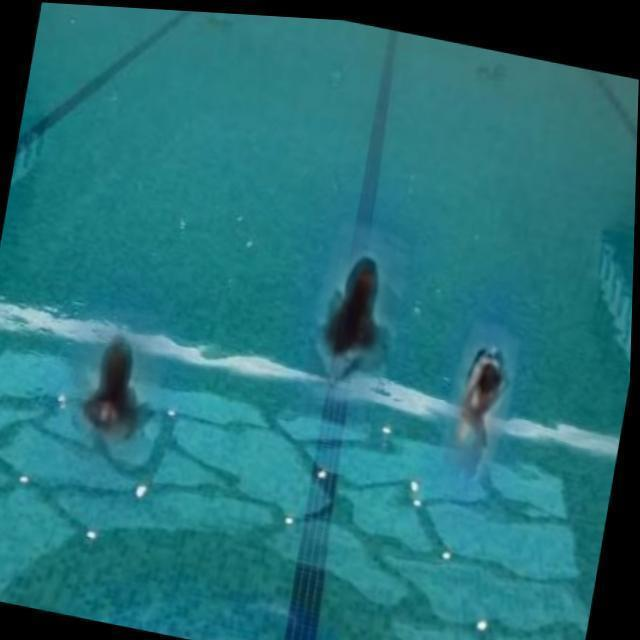swimming: (420, 321, 530, 517), (285, 225, 406, 389), (54, 320, 177, 450)
